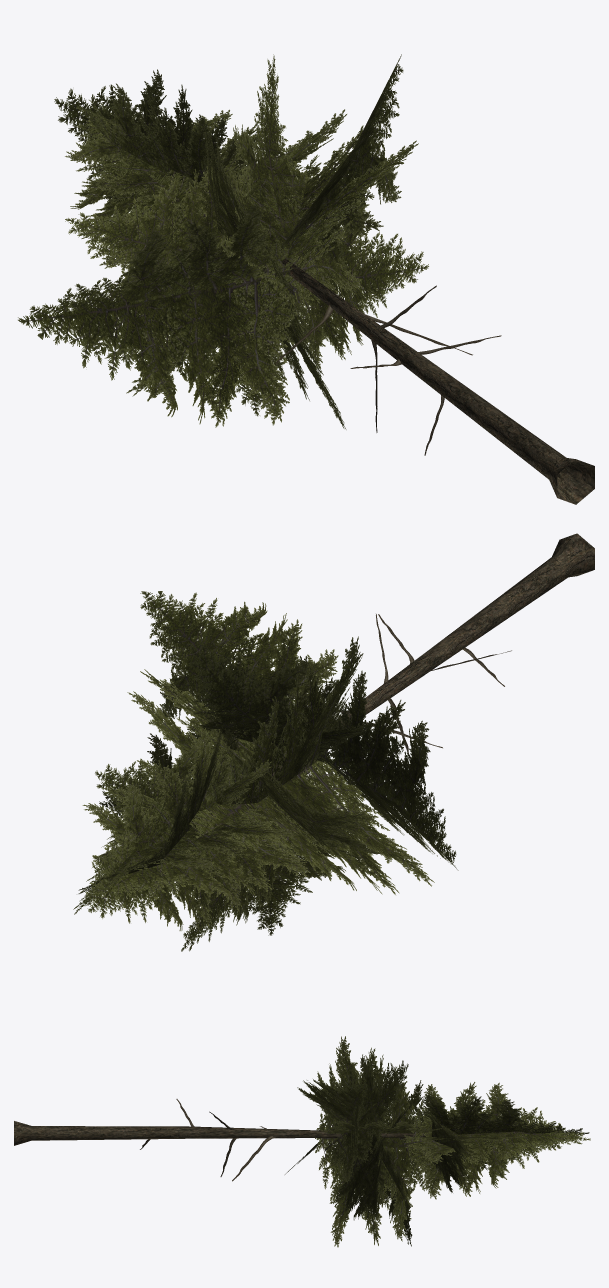
Rendered from MEP_Con_01_c.fbx.
The picture shows the model from 3 angles, top to bottom: view 1: azimuth 30°, elevation 25°; view 2: azimuth 150°, elevation 25°; view 3: azimuth 270°, elevation 25°; orthographic projection. The views are drawn at different scales.
Visible parts, largest first — view 1: MEP_Con_01_c, MEP_ConTrunk_01_c; view 2: MEP_Con_01_c, MEP_ConTrunk_01_c; view 3: MEP_Con_01_c, MEP_ConTrunk_01_c.
Boxes of the visible parts, x1,y1,x2,y2 form: MEP_Con_01_c: (18, 54, 501, 455); MEP_ConTrunk_01_c: (188, 191, 594, 504); MEP_Con_01_c: (73, 591, 511, 951); MEP_ConTrunk_01_c: (198, 533, 594, 824); MEP_Con_01_c: (140, 1036, 590, 1247); MEP_ConTrunk_01_c: (14, 1121, 425, 1145).
Size of the model in its own units: 12.68 by 12.5 by 27.42.
